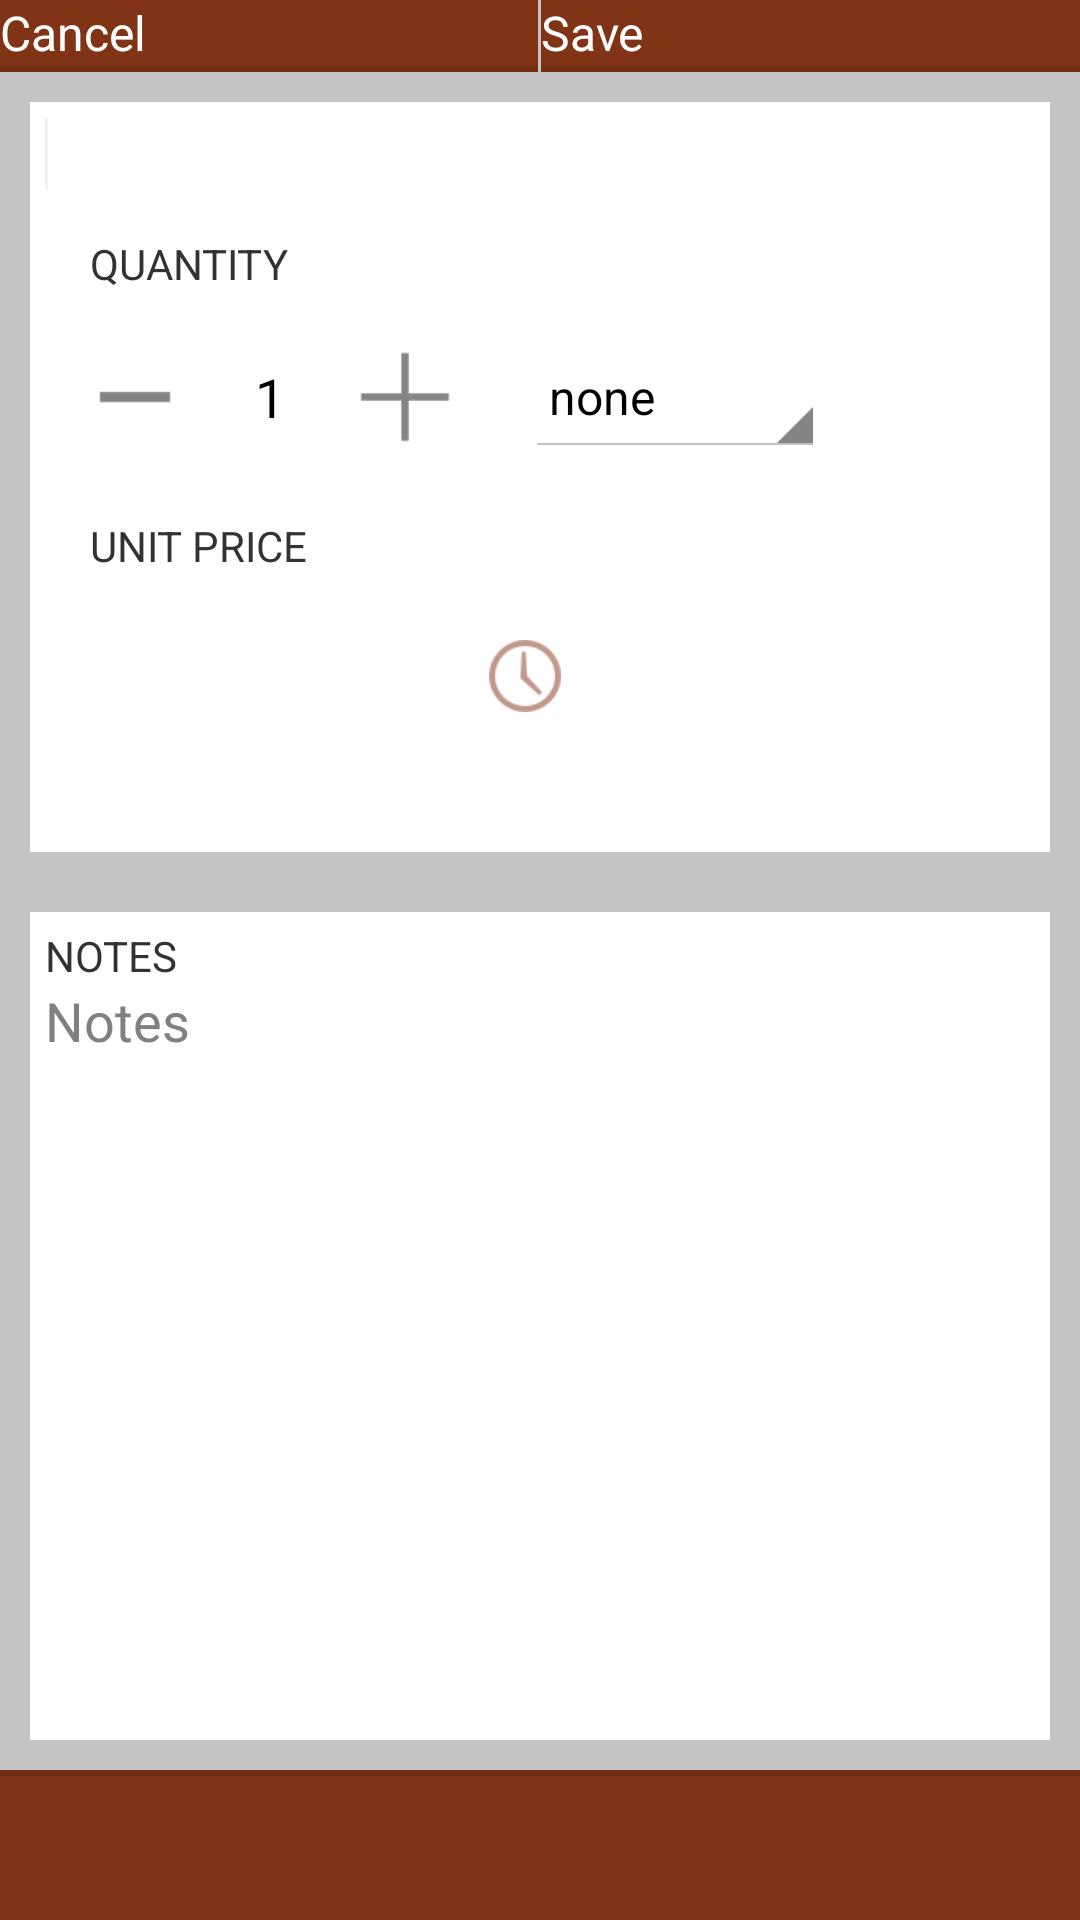

Where icons sit on this 1080 × 1920 app screen, as Rect(x1, y1, x2, y2):
clock: Rect(489, 640, 561, 712)
minus: Rect(99, 391, 171, 403)
plus: Rect(360, 352, 450, 442)
